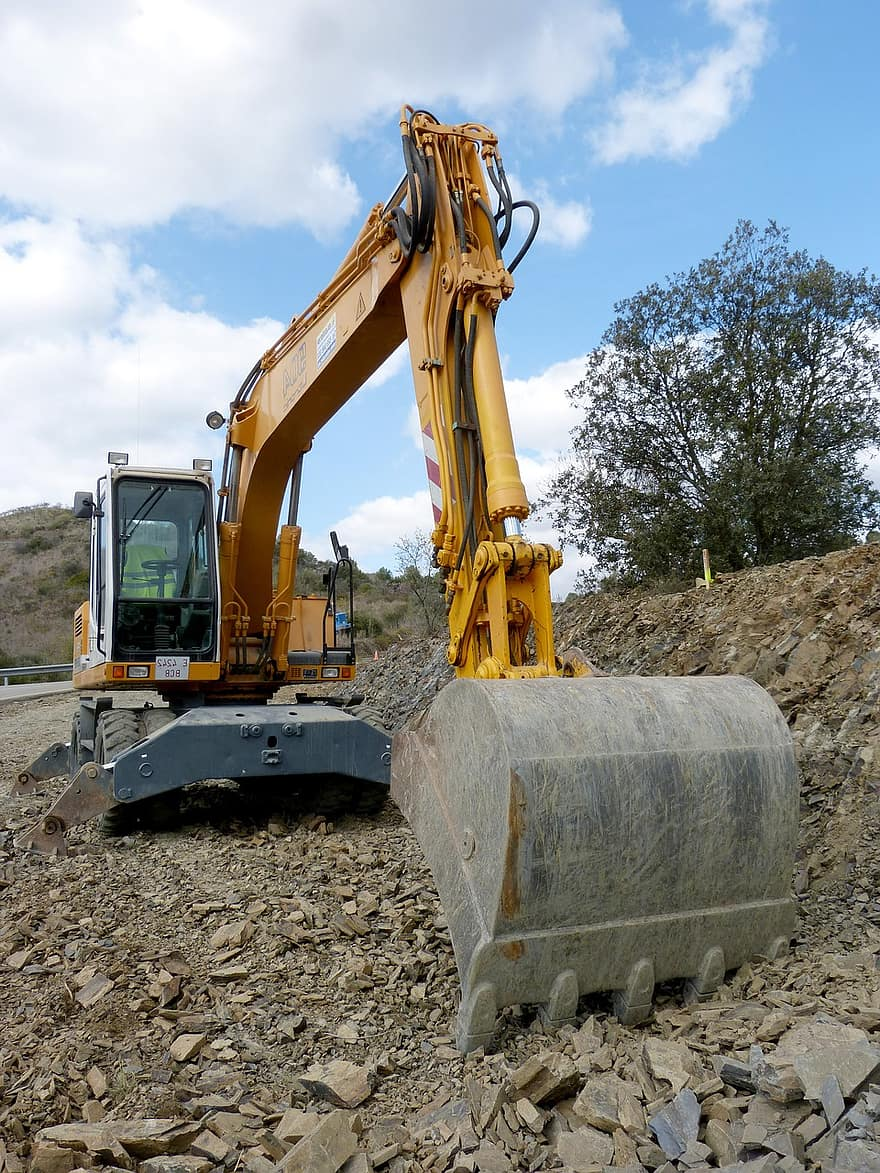excavator: (33, 103, 820, 1053)
